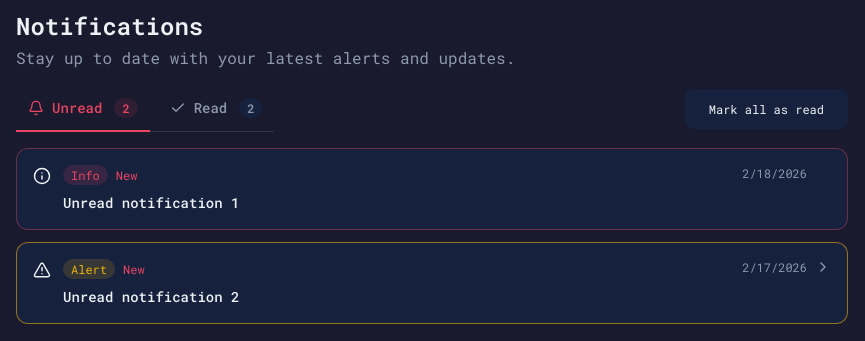
Notifications Page › should switch to Read tab when clicked
The image size is (865, 341).
Click the button "Read 2".
click(216, 109)  # box [158, 86, 274, 132]
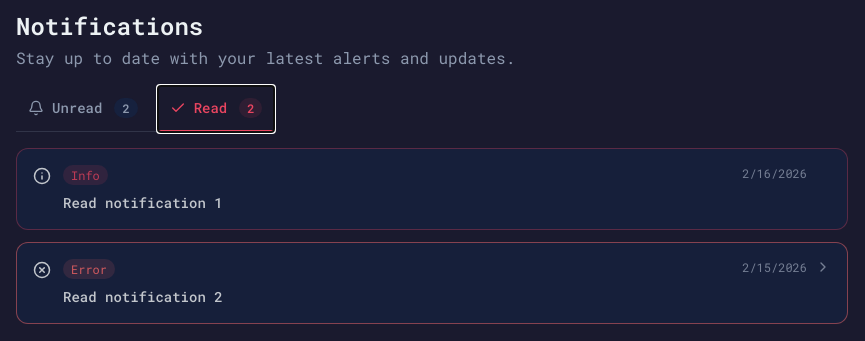
Expected: the text "Read notification 1" is shown, [63, 193, 223, 213]
Expected: the button "Unread notification 1" is gone
Expected: the button "Unread notification 2" is gone
